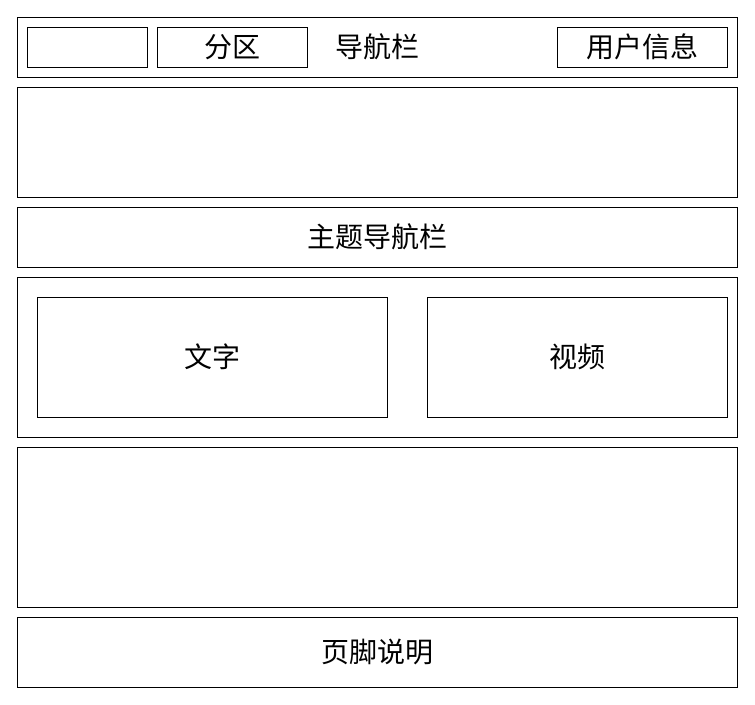
Image size: 755x705. Some labels were removed from this diagram. The centre of each missing label's shape, as x and y in pixels:
"logo" goes at (x=87, y=47).
"PDF" goes at (x=377, y=527).
"主题图" goes at (x=377, y=142).
